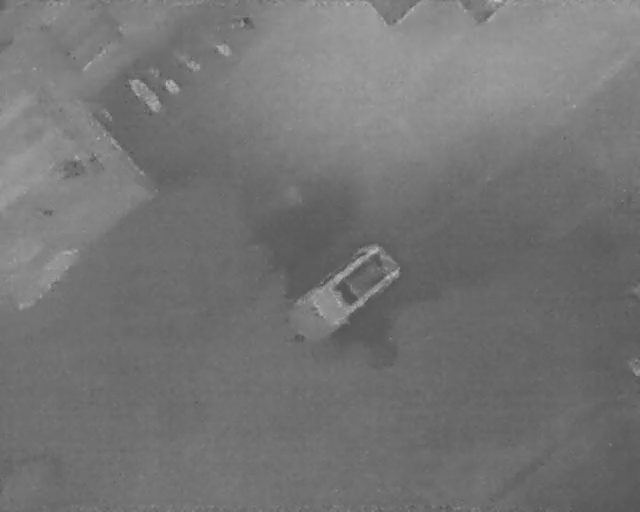Bicycle: (120, 70, 169, 120), (141, 59, 185, 102), (168, 41, 207, 77), (203, 28, 238, 62)
Car: (270, 232, 411, 358)
